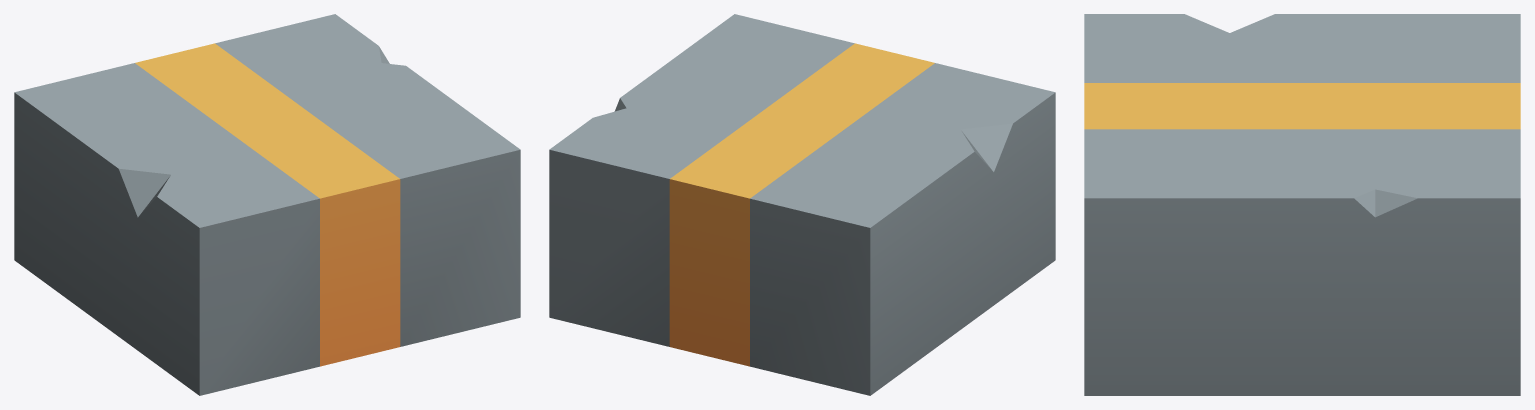
The model's file is block_half.gltf.glb.
3 renders of one model, left to right at view 1: azimuth 30°, elevation 25°; view 2: azimuth 150°, elevation 25°; view 3: azimuth 270°, elevation 25°, orthographic. The views are drawn at different scales.
Parts seen in each view (by area): view 1: block_half; view 2: block_half; view 3: block_half.
Boxes of the visible parts, x1,y1,x2,y2 form: block_half: (14,14,520,395); block_half: (549,14,1055,395); block_half: (1084,14,1520,395).
Size of the model in its own units: 2 by 1 by 2.
1 material, 1 textured.
